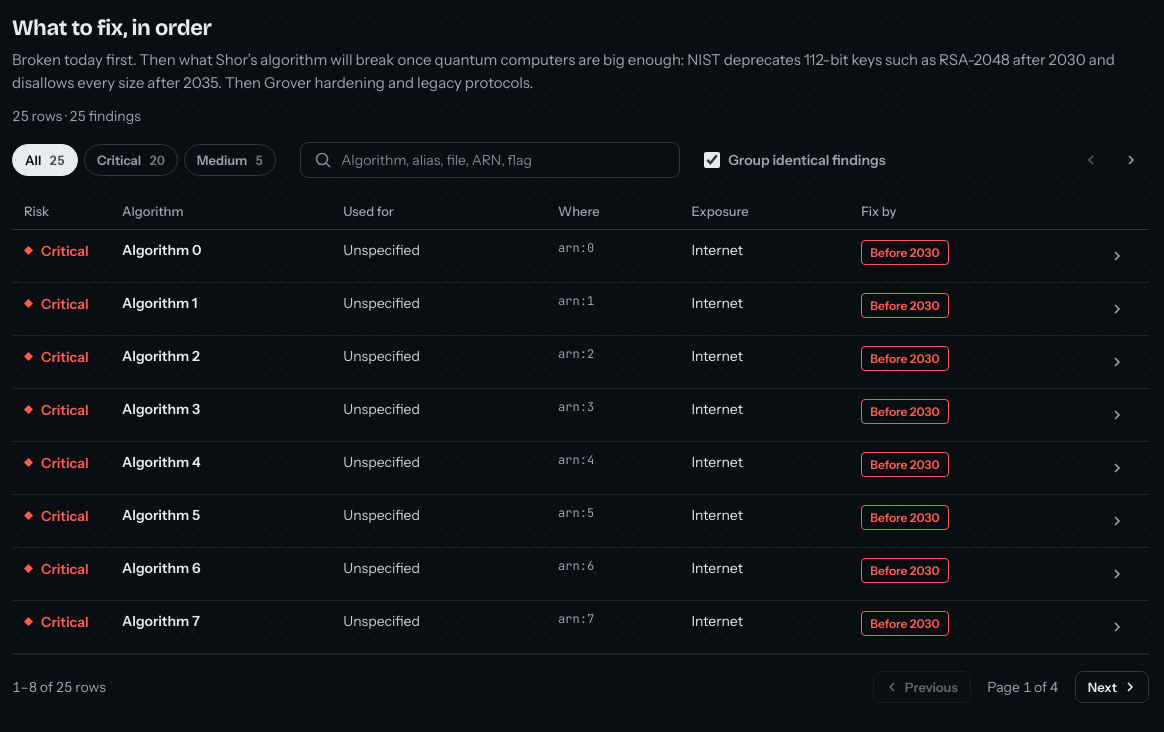
FindingsTable › pages the list instead of scrolling it, from below the table or above it
Check: the text "Page 1 of 4" is shown, box [987,678,1058,696]
Check: the button "Previous" is disabled, box [873,671,971,703]
Click the button "Next".
click(1112, 687)  # box [1075,671,1149,703]
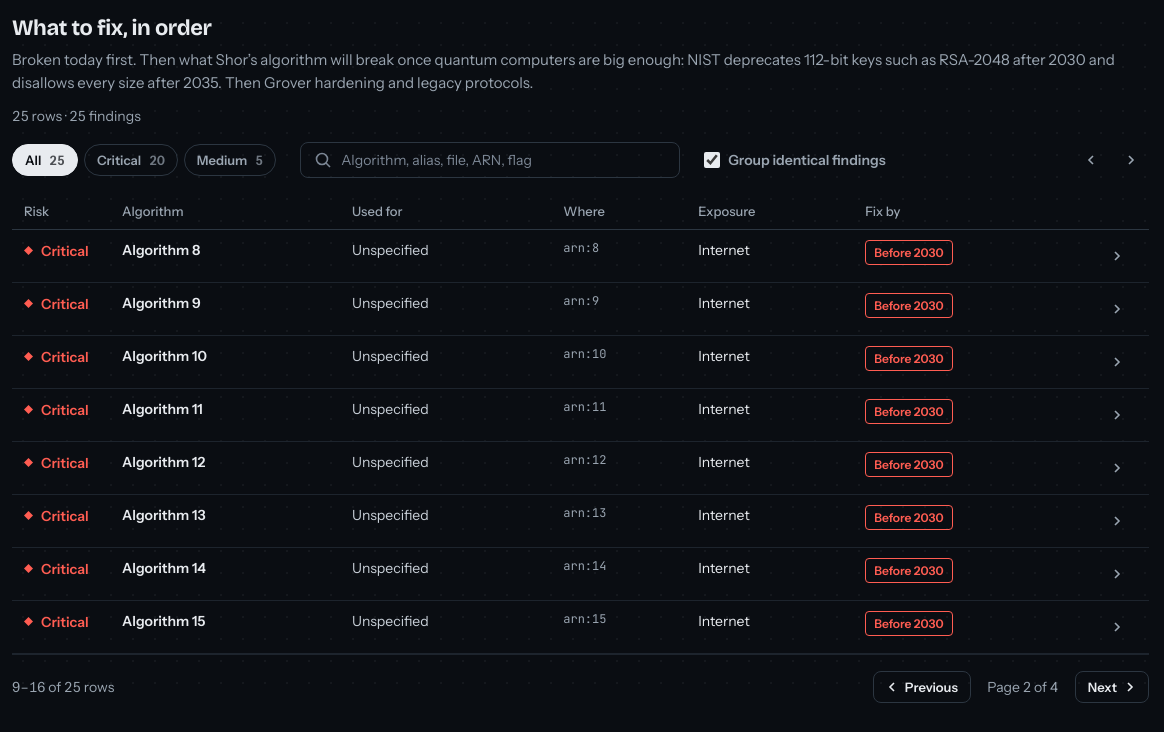
Check: the text "Page 2 of 4" is shown, box [987,678,1058,696]
Check: the text "9–16 of 25 rows" is shown, box [12,677,114,697]
Click the button named "Next page".
click(1131, 160)  # box [1113,142,1149,178]
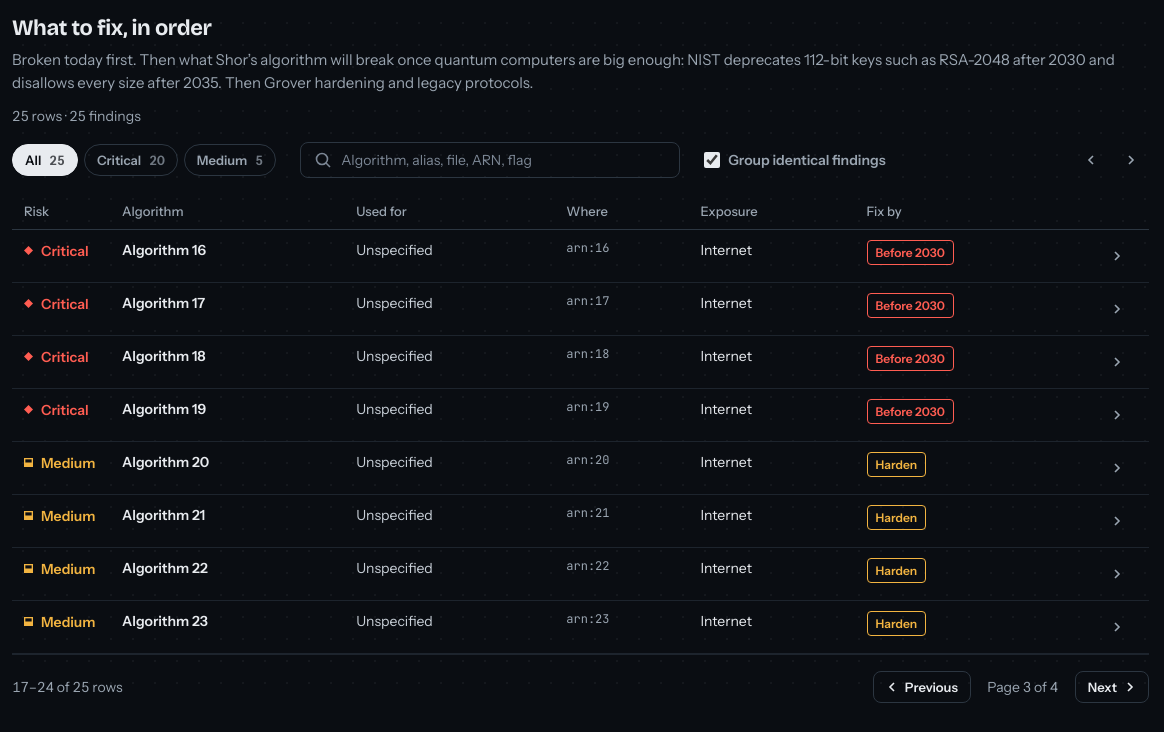
Click the button named "Next page".
click(1131, 160)  # box [1113,142,1149,178]
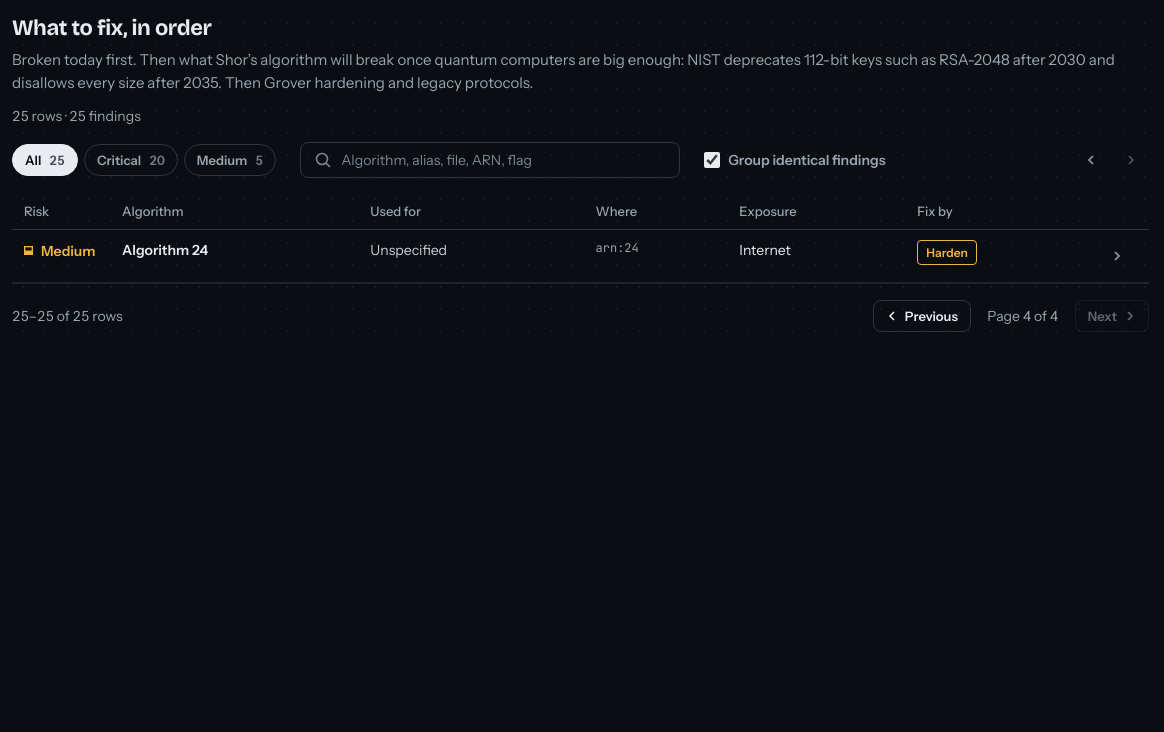
Check: the text "Page 4 of 4" is shown, box [987,307,1058,325]
Check: the button "Next" is disabled, box [1075,300,1149,332]
Click the button named "Previous page".
click(1091, 160)  # box [1073,142,1109,178]
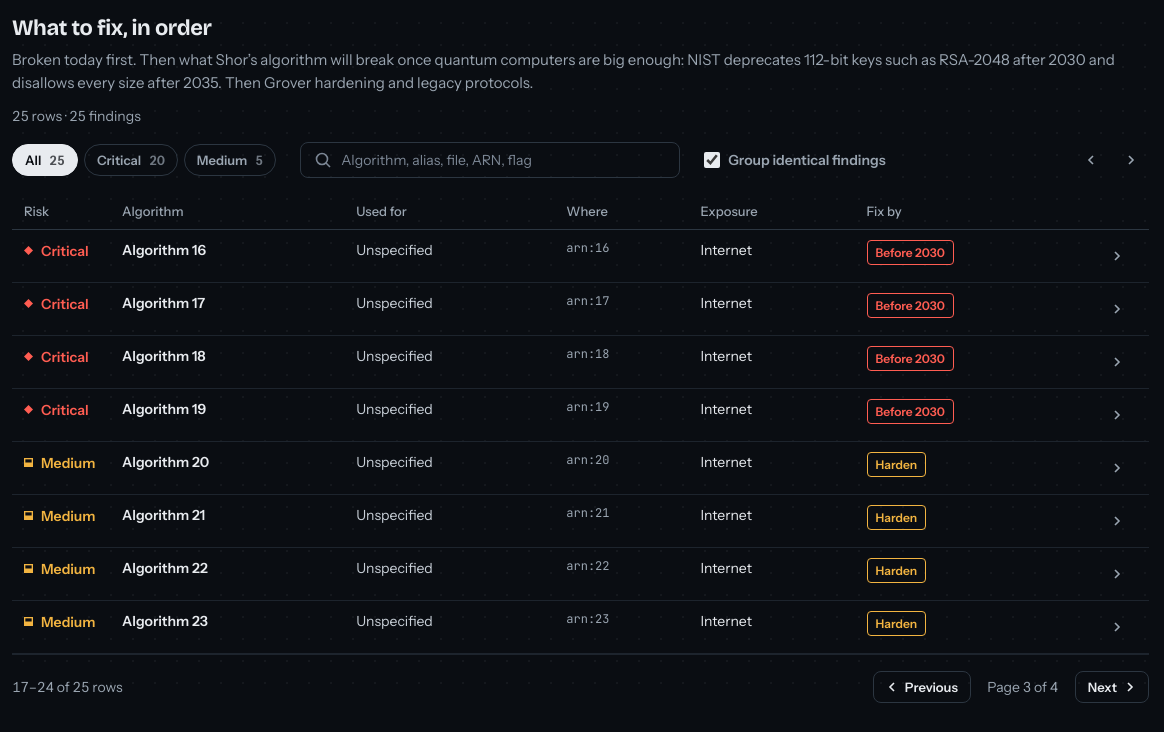
Check: the text "Page 3 of 4" is shown, box [987,678,1058,696]
